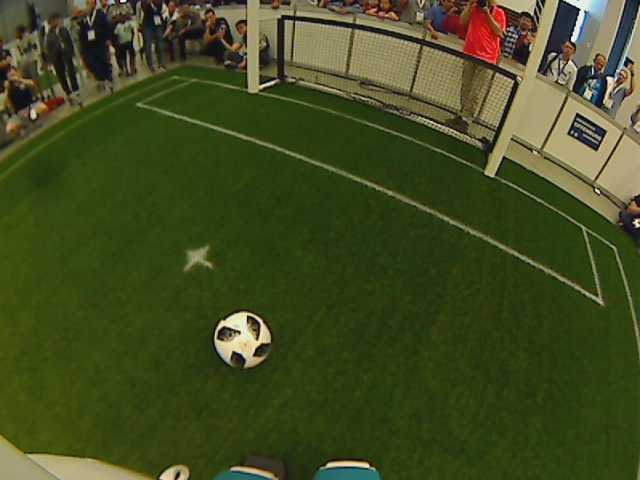ball: (210, 310, 275, 371)
goalpost: (242, 1, 566, 182)
